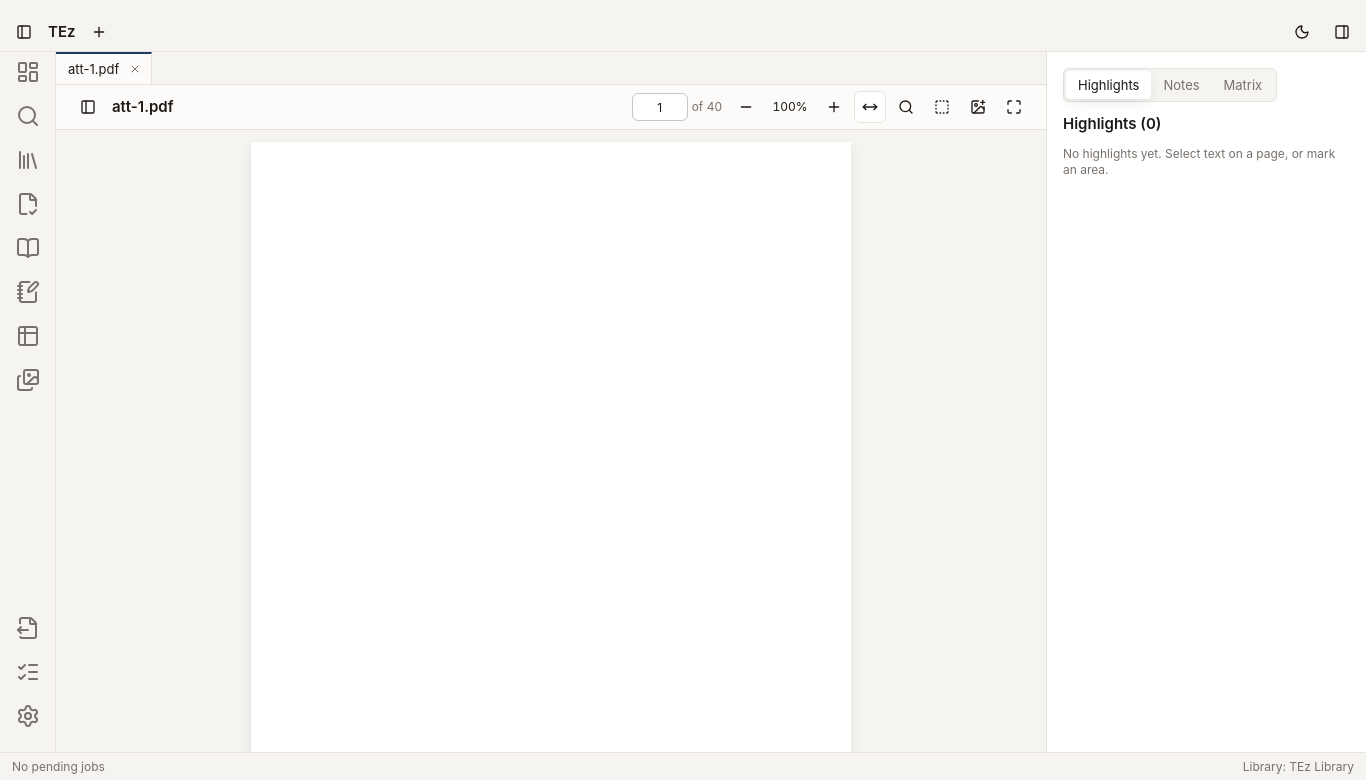
Test case: the reader's document panel › shows the outline, marks the section being read and jumps to a page
Click the button named "Outline and pages" at (88, 107), box x1=72 y1=91 x2=104 y2=123
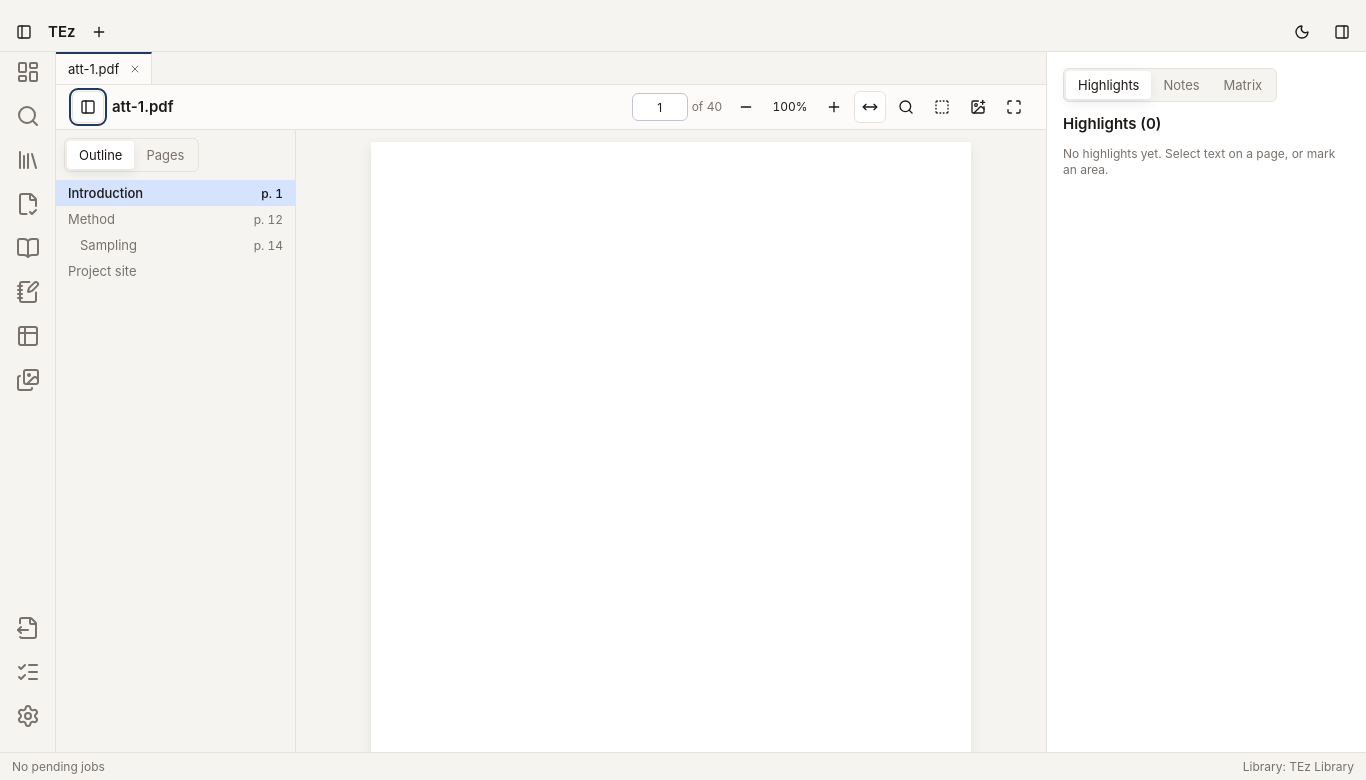
Now the button "Sampling p. 14" is shown, box x1=56 y1=232 x2=295 y2=258
Now the button "Project site" is disabled, box x1=56 y1=258 x2=295 y2=284
